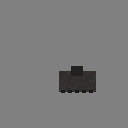armoured_vehicle: (59, 71, 96, 92)
